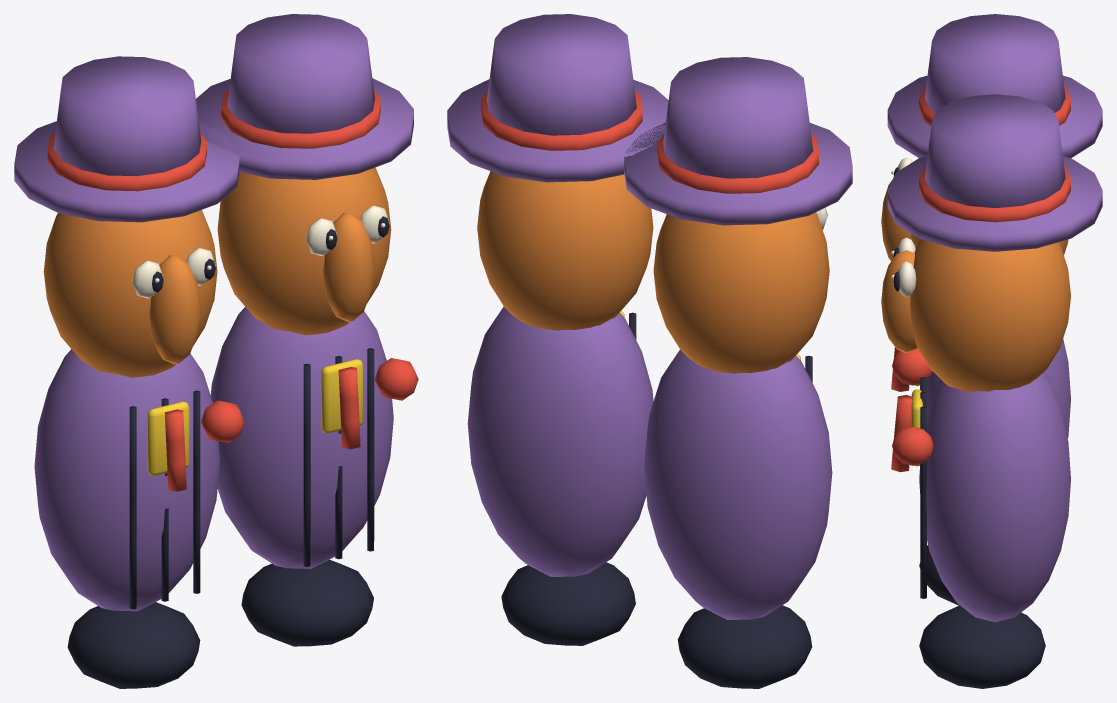
The model's file is doppelgangster.glb.
3 views of the same model, side by side, from view 1: azimuth 30°, elevation 25°; view 2: azimuth 150°, elevation 25°; view 3: azimuth 270°, elevation 25° (orthographic). The views are drawn at different scales.
Visible parts, largest first — view 1: doppelgangster_toy-sw-violet, doppelgangster_toy-sw-orange, doppelgangster_toy-sw-ink, doppelgangster_toy-sw-red, doppelgangster_toy-sw-yellow, doppelgangster_toy-sw-paper; view 2: doppelgangster_toy-sw-violet, doppelgangster_toy-sw-orange, doppelgangster_toy-sw-ink, doppelgangster_toy-sw-red; view 3: doppelgangster_toy-sw-violet, doppelgangster_toy-sw-orange, doppelgangster_toy-sw-ink, doppelgangster_toy-sw-red, doppelgangster_toy-sw-paper, doppelgangster_toy-sw-yellow.
Boxes of the visible parts, x1=… form: doppelgangster_toy-sw-violet: x1=14, y1=14, x2=413, y2=611; doppelgangster_toy-sw-orange: x1=43, y1=167, x2=391, y2=377; doppelgangster_toy-sw-ink: x1=67, y1=216, x2=389, y2=688; doppelgangster_toy-sw-red: x1=47, y1=89, x2=418, y2=491; doppelgangster_toy-sw-yellow: x1=147, y1=359, x2=362, y2=475; doppelgangster_toy-sw-paper: x1=132, y1=205, x2=389, y2=298; doppelgangster_toy-sw-violet: x1=447, y1=14, x2=852, y2=619; doppelgangster_toy-sw-orange: x1=477, y1=171, x2=829, y2=373; doppelgangster_toy-sw-ink: x1=501, y1=312, x2=812, y2=688; doppelgangster_toy-sw-red: x1=481, y1=90, x2=818, y2=193; doppelgangster_toy-sw-violet: x1=887, y1=14, x2=1102, y2=622; doppelgangster_toy-sw-orange: x1=881, y1=180, x2=1070, y2=392; doppelgangster_toy-sw-ink: x1=893, y1=167, x2=1045, y2=688; doppelgangster_toy-sw-red: x1=891, y1=85, x2=1070, y2=472; doppelgangster_toy-sw-paper: x1=891, y1=157, x2=916, y2=297; doppelgangster_toy-sw-yellow: x1=911, y1=384, x2=922, y2=466.
Size of the model in its own units: 0.5996 by 0.9141 by 0.3281.
